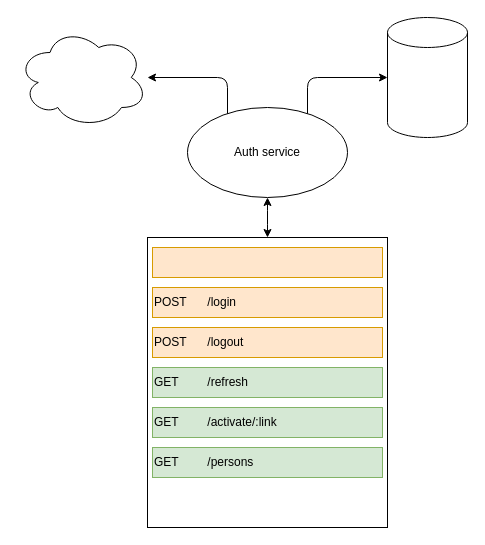
Image size: 485x545. Some labels were removed from this diagram. Here are the shapes that lost their labels. From the top down, the box of each, then its label:
(16, 26, 148, 128): GMAIL SMTP
(386, 16, 468, 138): User DB PostgreSQL
(152, 246, 382, 278): POST /registration
